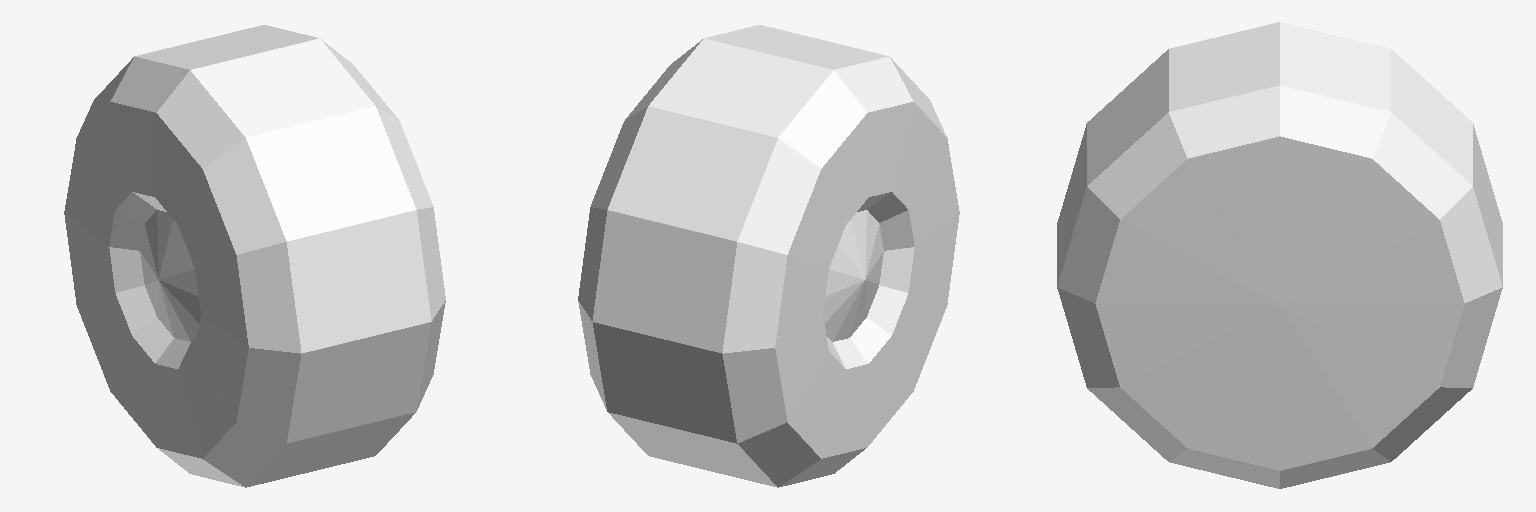
File: spacetruck_trailer_wheel_front_right.obj
3 views of the same model, side by side, from view 1: azimuth 30°, elevation 25°; view 2: azimuth 150°, elevation 25°; view 3: azimuth 270°, elevation 25° (orthographic).
Parts seen in each view (by area): view 1: spacetruck_trailer_wheel_front_right_Cylinder.2708; view 2: spacetruck_trailer_wheel_front_right_Cylinder.2708; view 3: spacetruck_trailer_wheel_front_right_Cylinder.2708.
Part boxes in pixels (x1,y1,x2,y2): spacetruck_trailer_wheel_front_right_Cylinder.2708: (64,25,445,487); spacetruck_trailer_wheel_front_right_Cylinder.2708: (578,25,959,487); spacetruck_trailer_wheel_front_right_Cylinder.2708: (1057,22,1502,488).
Bounding box in the file's own units: 0.0916 × 0.1754 × 0.1754.